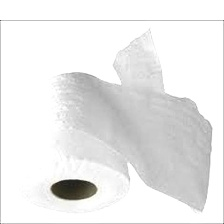tissue: (10, 22, 218, 221)
